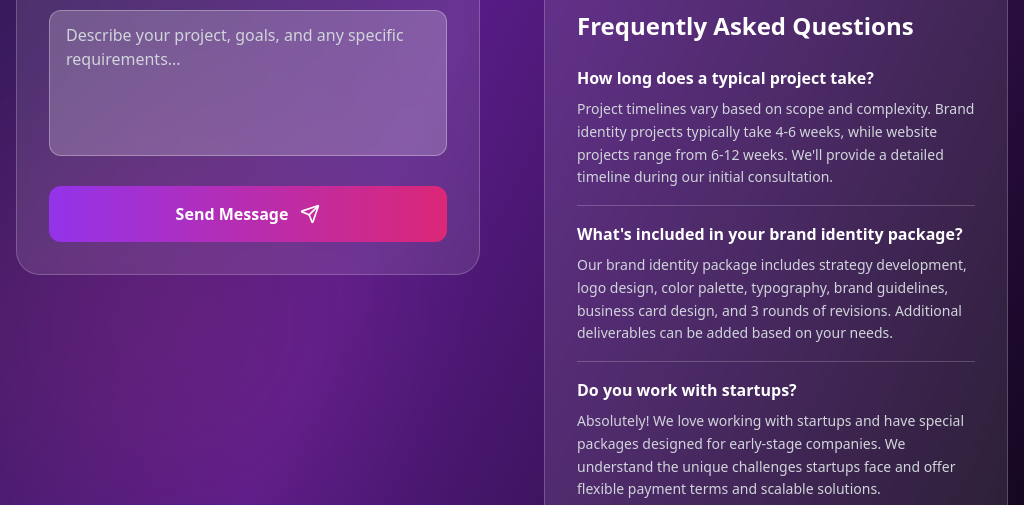
Test case: ContactSection › shows field errors and does not submit an invalid form
(page scrolled)
Step 1. Click the button "Send Message" → (248, 214), box [49,186,447,242]
(page scrolled)
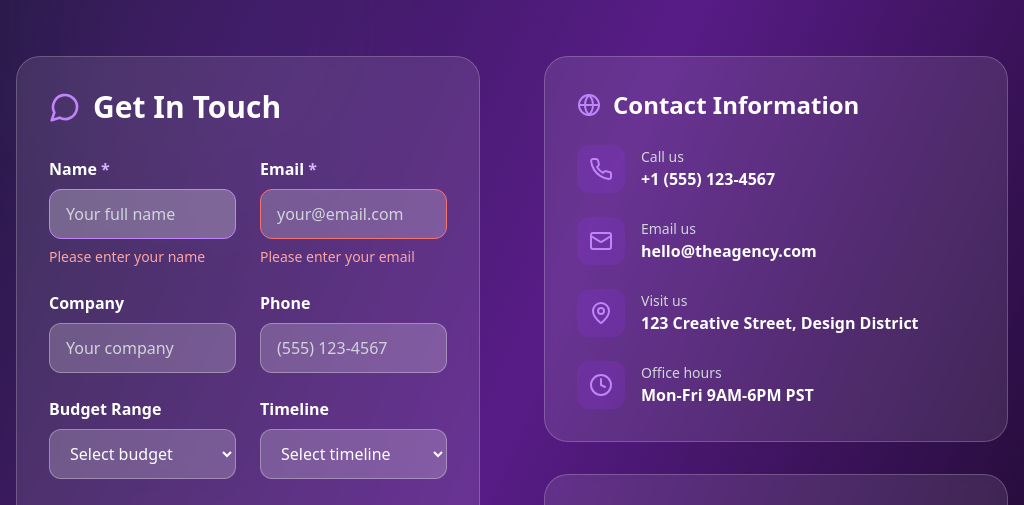
Check: the text "Please enter your name" is shown, box [49,247,205,266]
Check: the text "Please enter your email" is shown, box [260,247,415,266]
